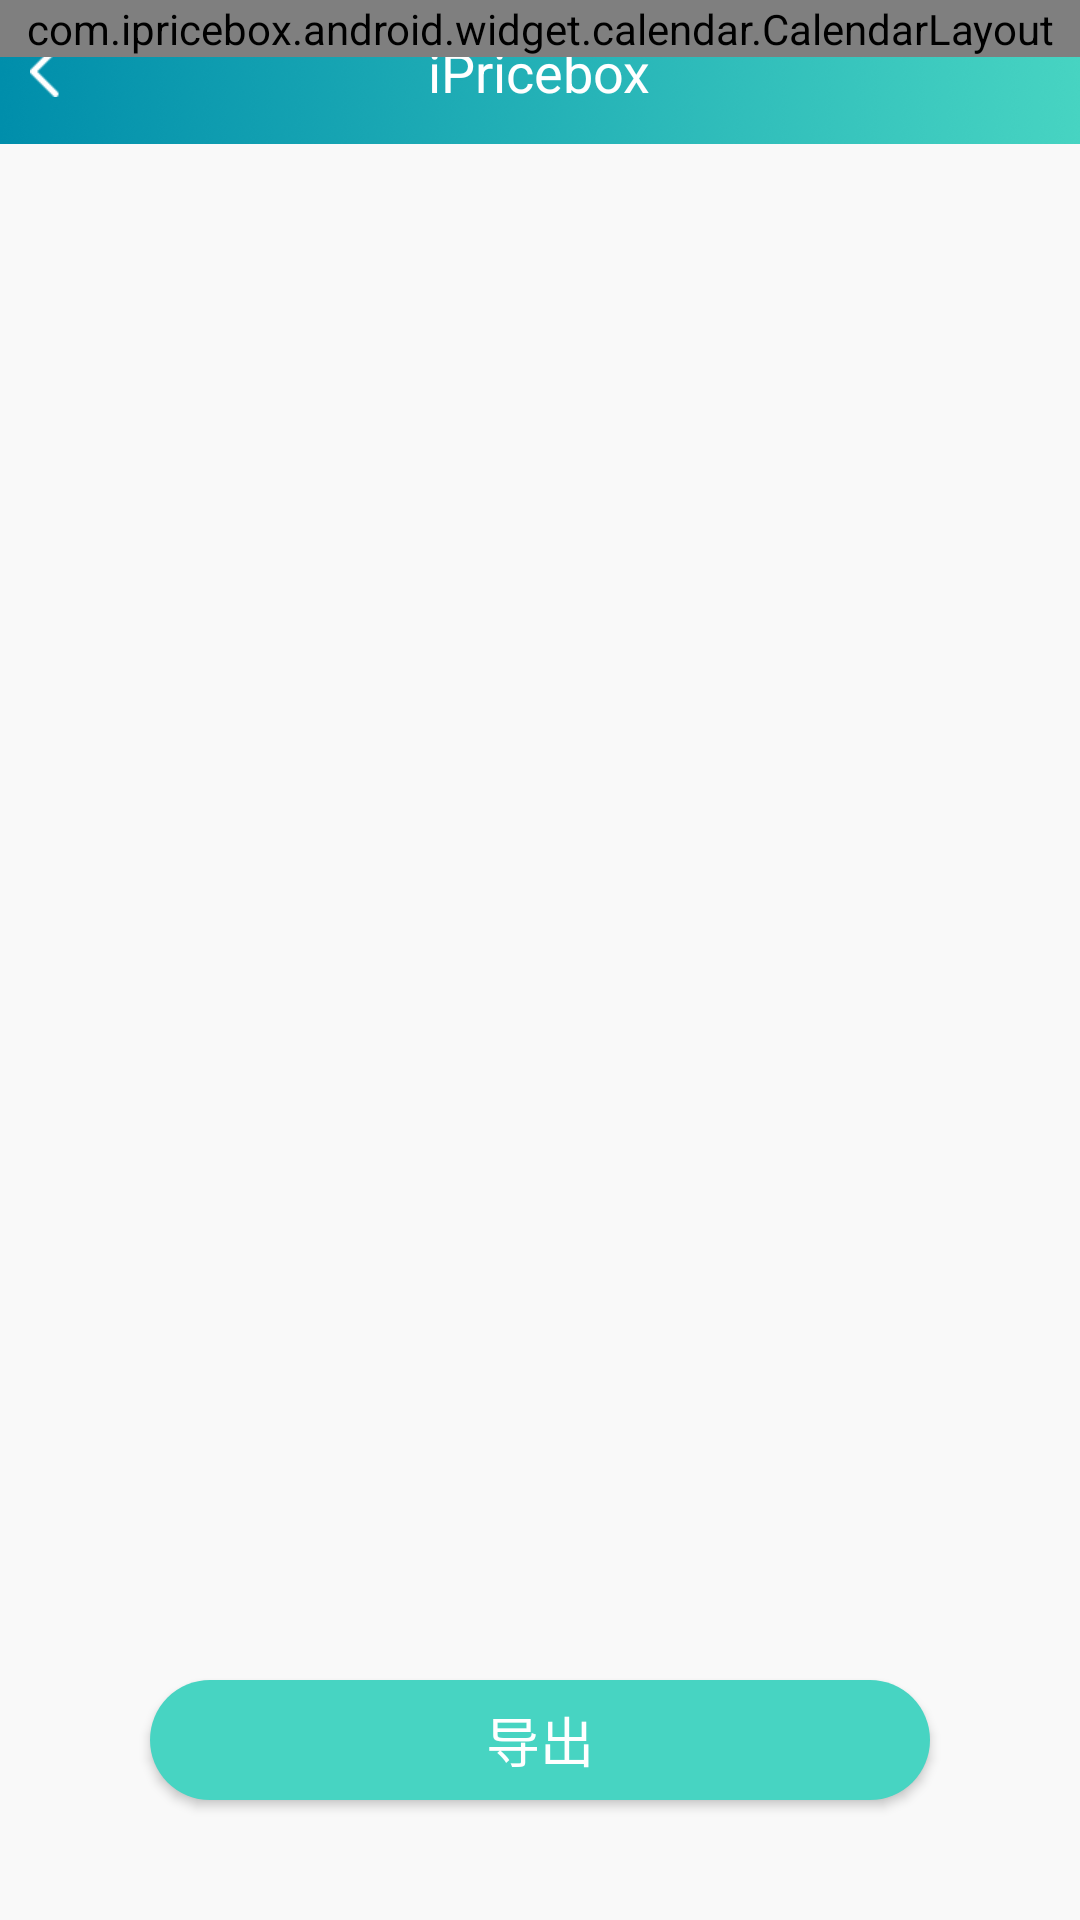

Screen size 1080px×1920px. Icon name, then its box in pixels as (x1, y1, x2, y2):
back: (30, 46, 60, 97)
